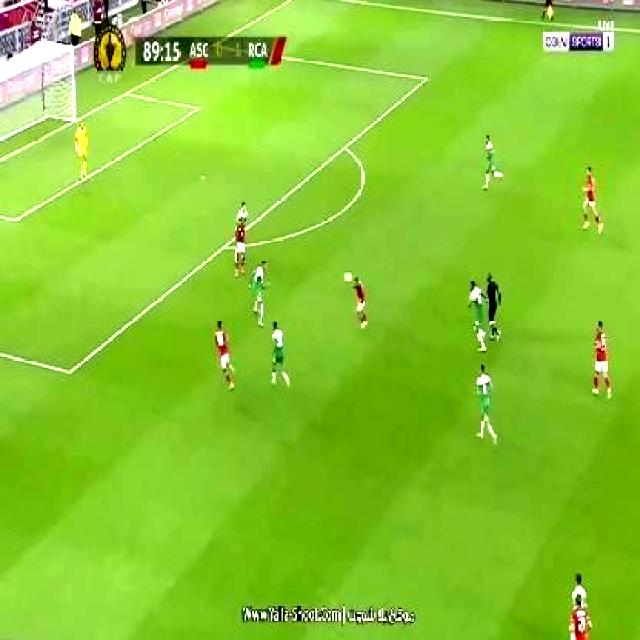bigarea_bottom_inner: (58, 357, 78, 383)
bigarea_top_inner: (417, 69, 432, 88)
bottom_arc_area_intersection: (216, 237, 230, 255)
smallarea_bottom_inner: (5, 204, 23, 230)
smallarea_top_inner: (188, 98, 203, 117)
smallarea_top_outter: (118, 83, 134, 102)
top_arc_area_intersection: (337, 137, 351, 155)
